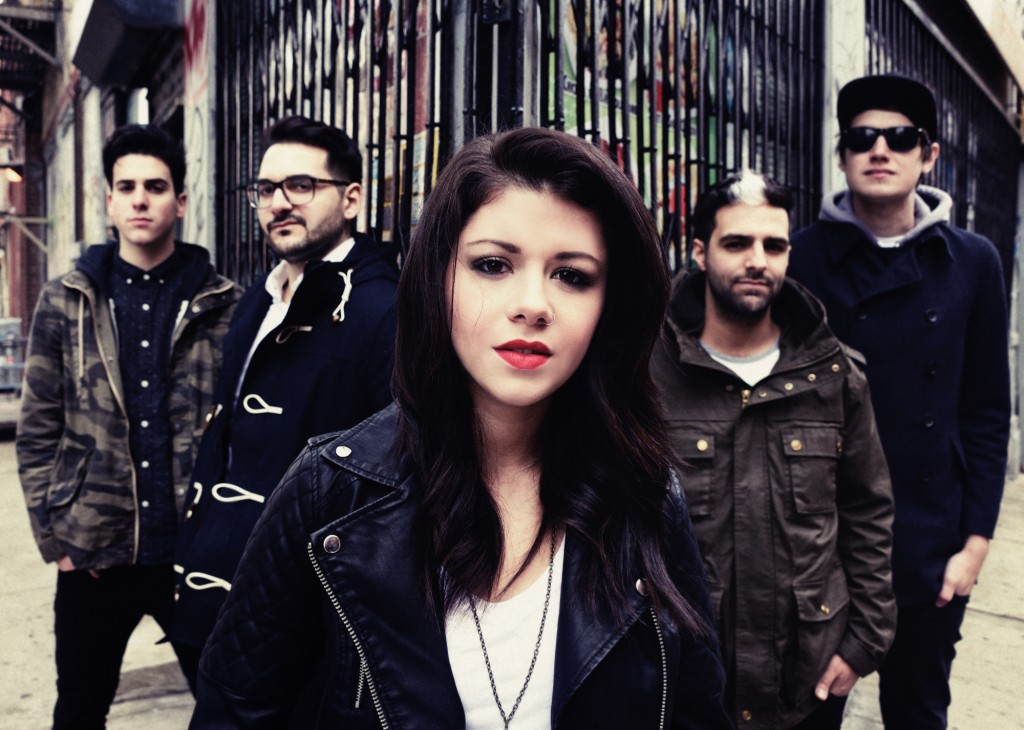Person: (377, 128, 683, 730), (671, 172, 848, 565), (18, 123, 224, 428), (825, 73, 1010, 355), (223, 114, 396, 406)
